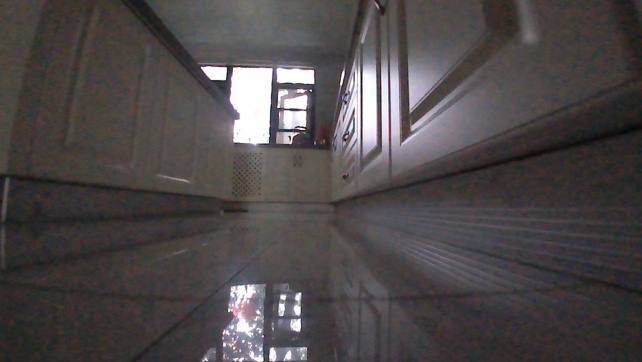cupboard: (235, 0, 641, 297), (2, 0, 241, 278)
